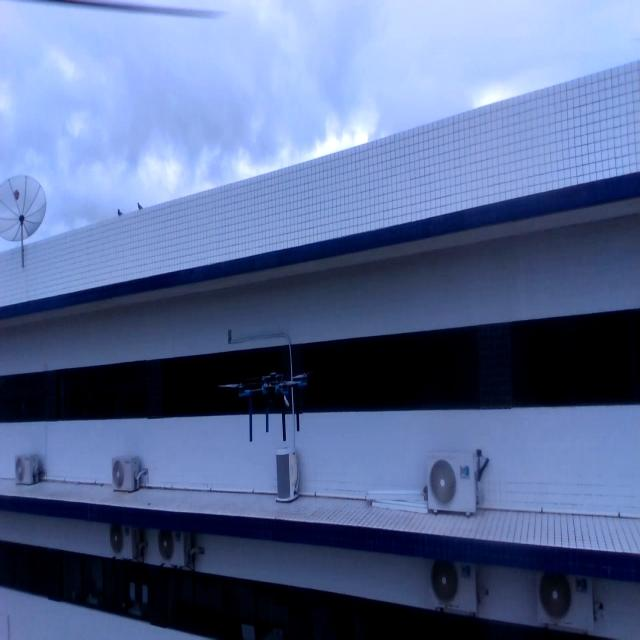-uav-: (210, 363, 326, 446)
